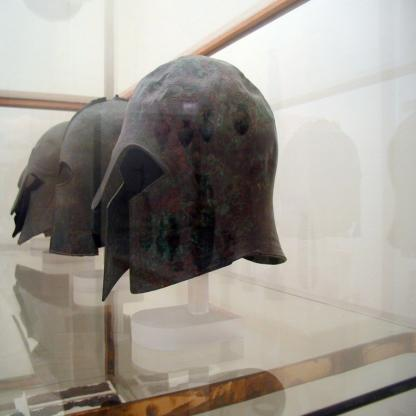Helmet: (89, 76, 289, 312), (48, 93, 129, 259), (9, 120, 68, 249)
